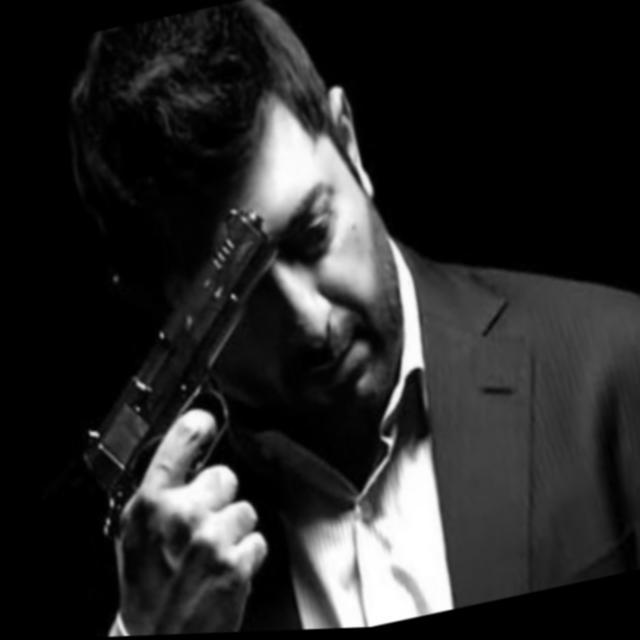weapon: (30, 194, 348, 614)
